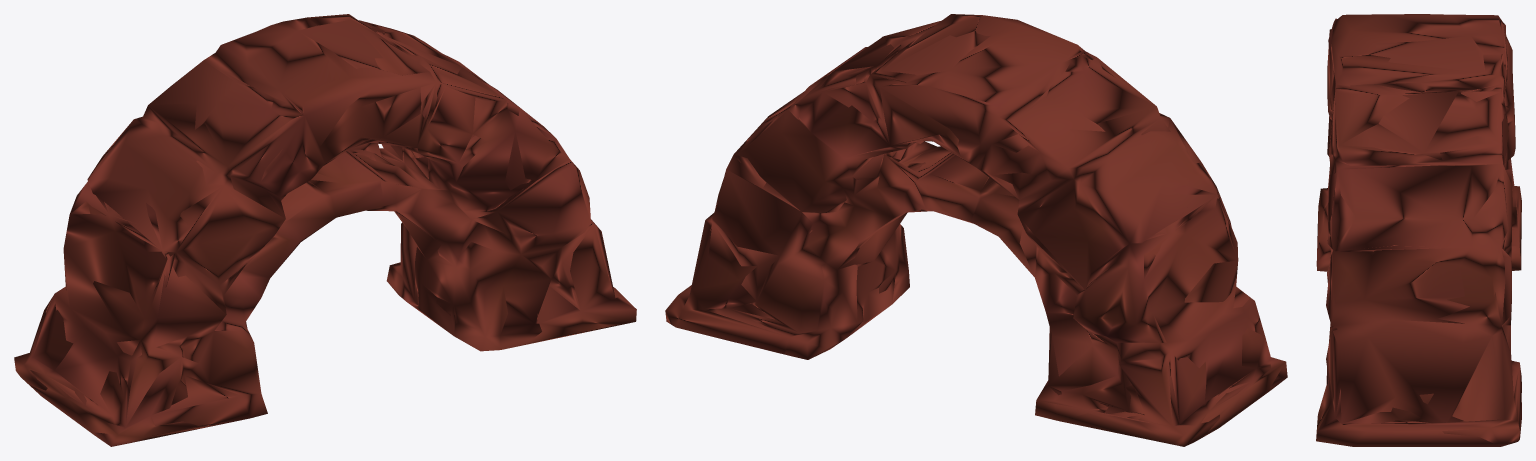
File: gen3d-rock-arch-lod0.glb
3 renders of one model, left to right at view 1: azimuth 30°, elevation 25°; view 2: azimuth 150°, elevation 25°; view 3: azimuth 270°, elevation 25°, orthographic. The views are drawn at different scales.
Parts seen in each view (by area): view 1: part_0; view 2: part_0; view 3: part_0.
Boxes of the visible parts, <box> form: part_0: <box>14,14,636,446</box>; part_0: <box>665,14,1287,446</box>; part_0: <box>1316,14,1521,446</box>.
Bounding box in the file's own units: 1.83 × 0.9947 × 0.6443.
